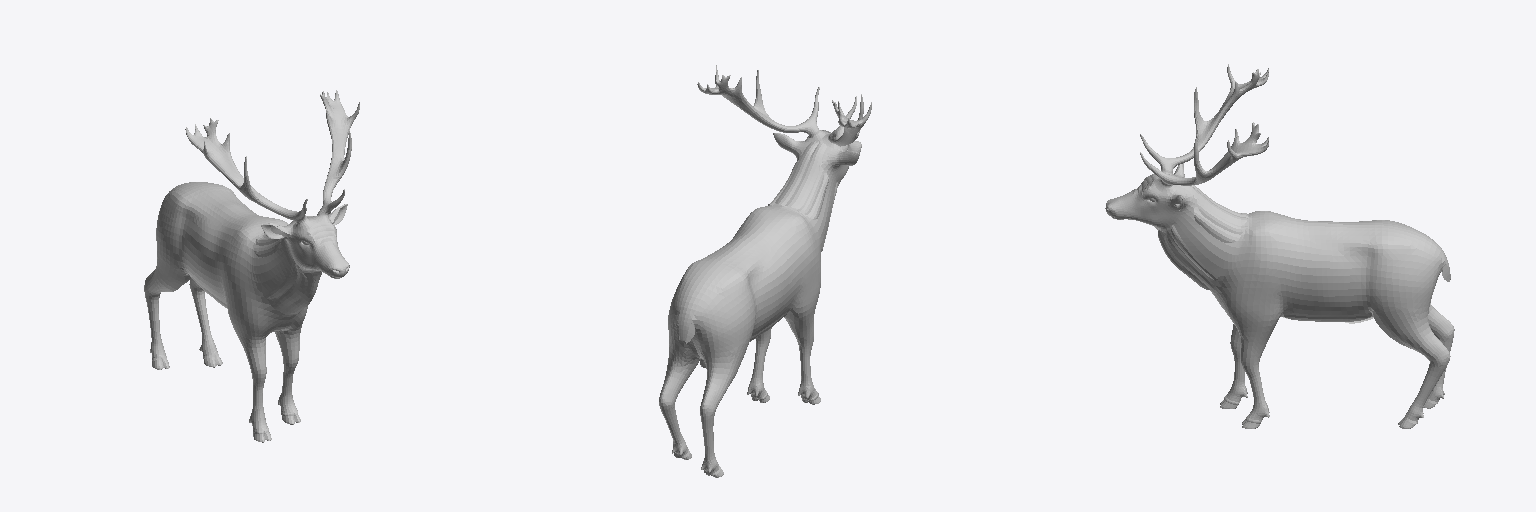
File: frame_0001_uv.obj
3 views of the same model, side by side, from view 1: azimuth 30°, elevation 25°; view 2: azimuth 150°, elevation 25°; view 3: azimuth 270°, elevation 25° (orthographic).
Visible parts, largest first — view 1: pMesh1; view 2: pMesh1; view 3: pMesh1.
Boxes of the visible parts, x1=… form: pMesh1: x1=144, y1=90, x2=359, y2=442; pMesh1: x1=659, y1=65, x2=871, y2=477; pMesh1: x1=1105, y1=64, x2=1454, y2=428.
Bounding box in the file's own units: 1.05 × 2.05 × 2.03.